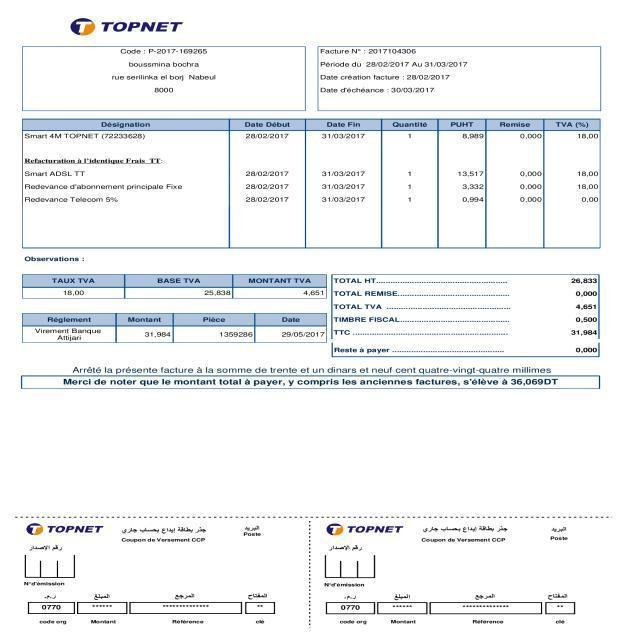ROI: (24, 117, 601, 248), (332, 276, 601, 359), (22, 362, 600, 389), (23, 314, 327, 343), (317, 46, 473, 102), (21, 272, 329, 300), (109, 46, 222, 93), (67, 10, 188, 39), (21, 252, 86, 265)
